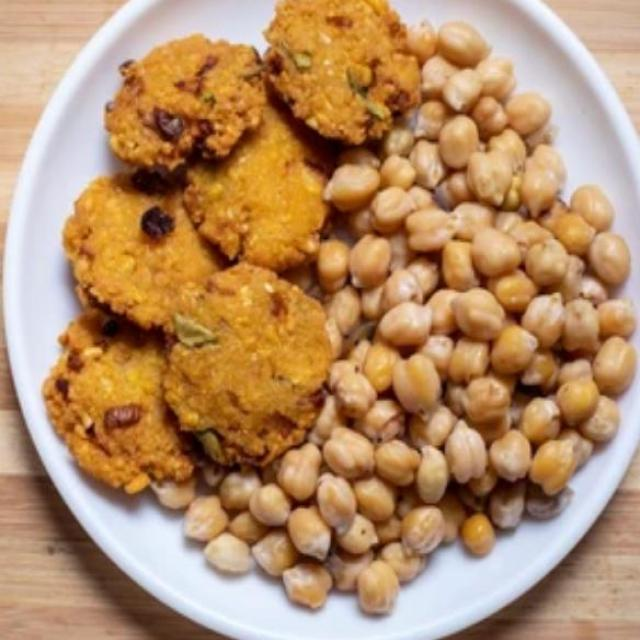SUNDAL: (148, 9, 636, 618)
VADA: (40, 0, 425, 497)
